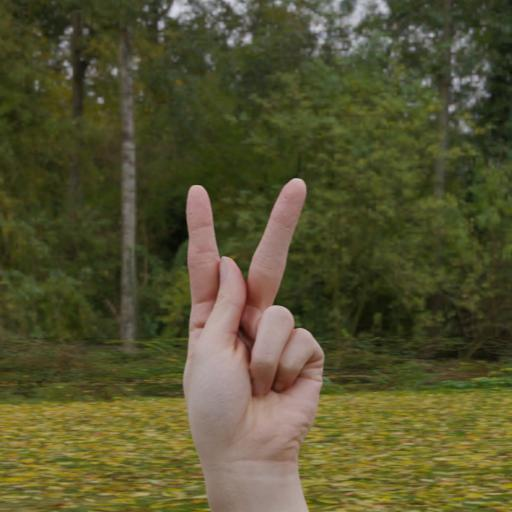K: (166, 167, 346, 462)
